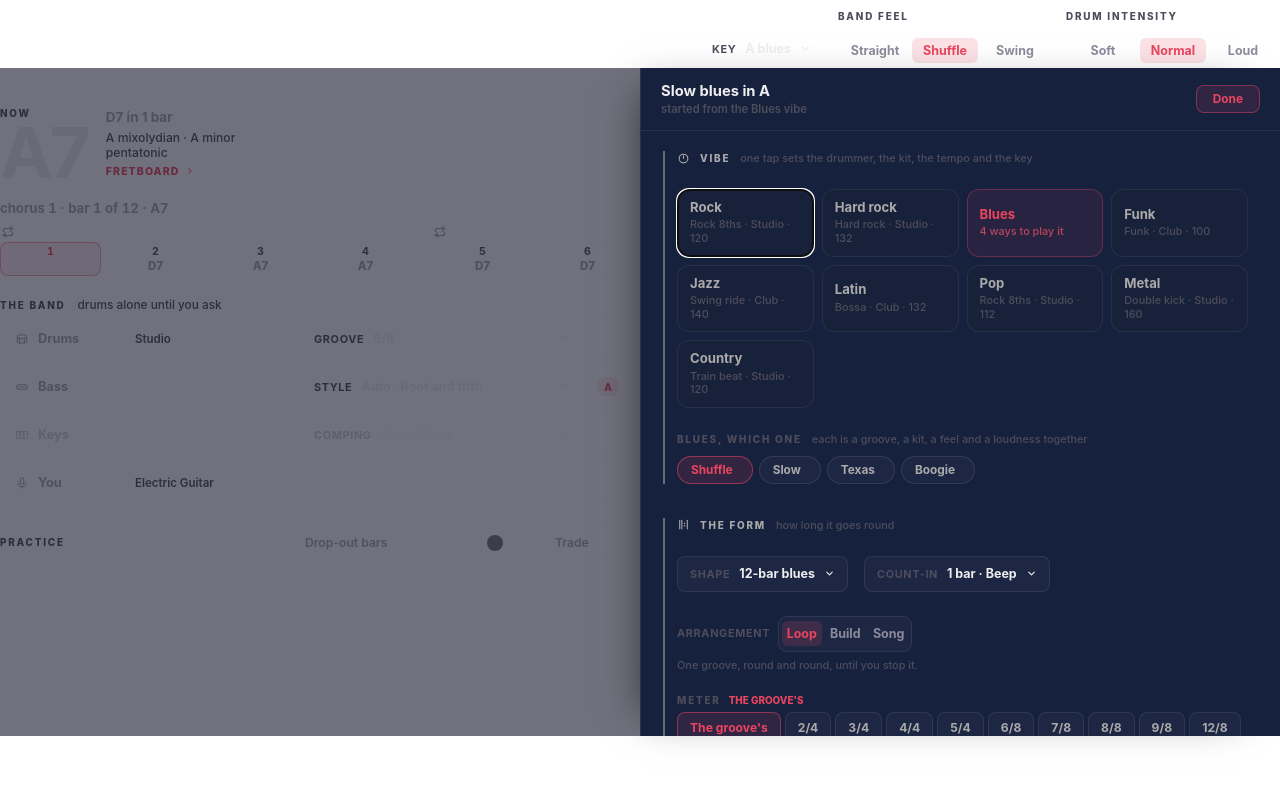
Test: JamView — the controls › offers a count-in only in whole bars the engine will actually take
This screenshot has width=1280, height=812.
What coordinates should you click on to do the following:
click the button "Count-in 1 bar · Beep"
I would click on:
 (957, 574)
Its box is x1=864 y1=556 x2=1050 y2=592.
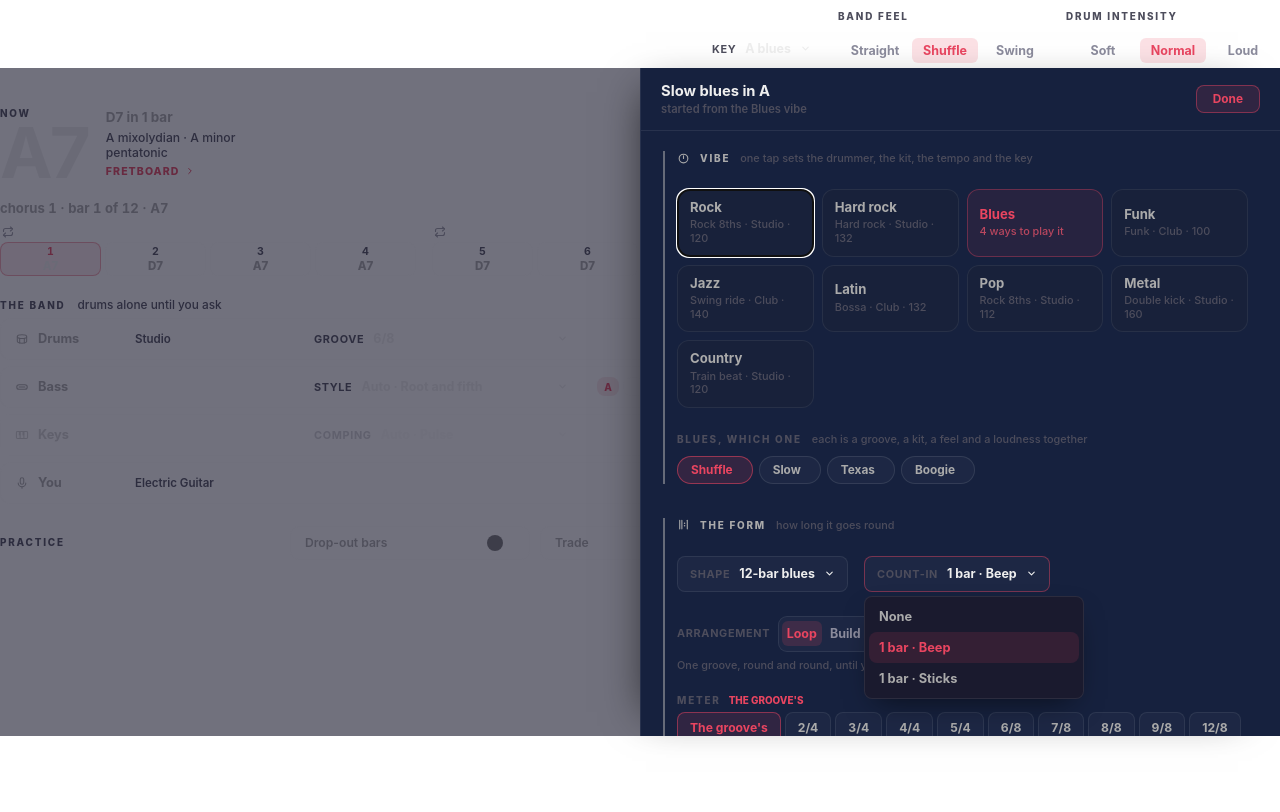
Now the options read "None", "1 bar · Beep", "1 bar · Sticks", in this order, box x1=869 y1=601 x2=1079 y2=632; x1=869 y1=632 x2=1079 y2=663; x1=869 y1=663 x2=1079 y2=694
